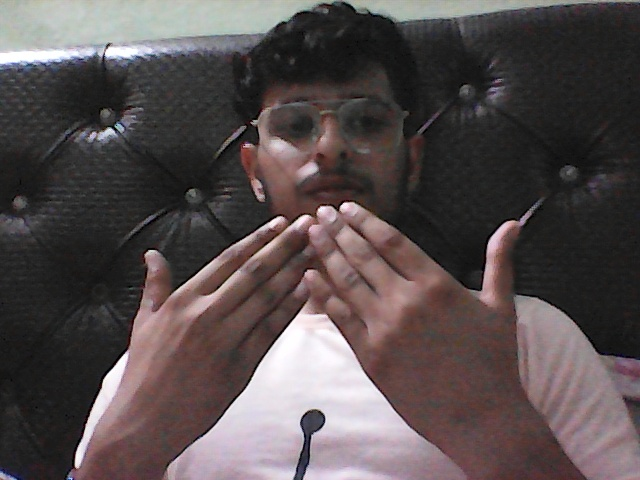thankyou: (35, 198, 580, 457)
